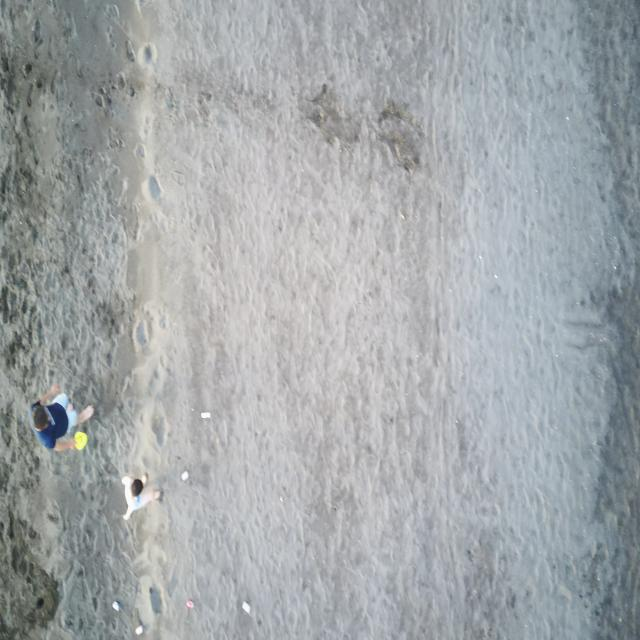tin-and-aluminum-cans: (242, 600, 252, 615), (136, 625, 145, 637), (184, 472, 193, 484), (181, 468, 189, 481), (112, 600, 120, 612), (201, 412, 213, 420), (186, 599, 194, 609)
